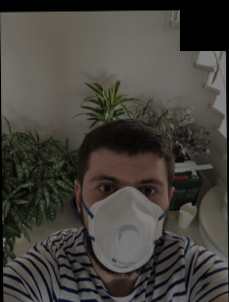with_mask: (85, 161, 168, 276)
